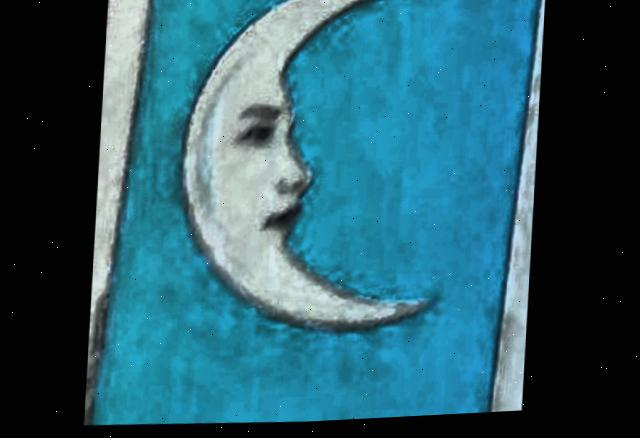La Luna: (92, 0, 538, 426)
